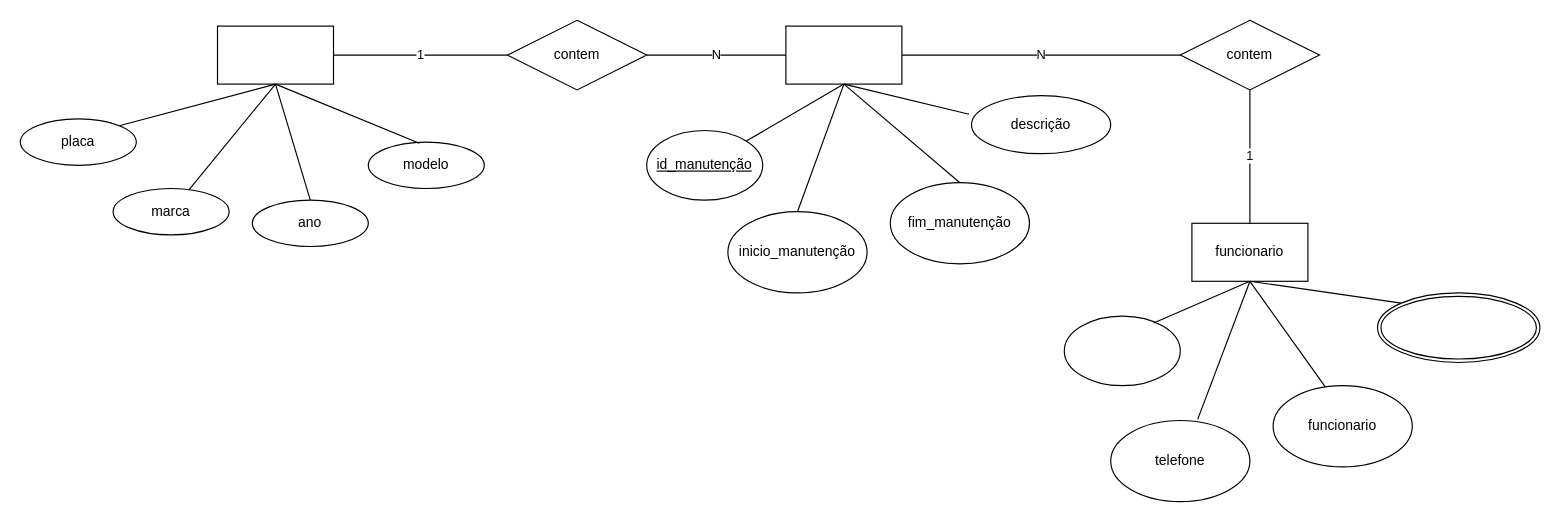
This 1560x522 diagram has some shape labels left out. The centre of each missing label's shape, as x and y in pixels:
"carro" goes at (275,54).
"manutenção" goes at (843,54).
"matricula" goes at (1121,350).
"telefone_secundario" goes at (1458,327).
